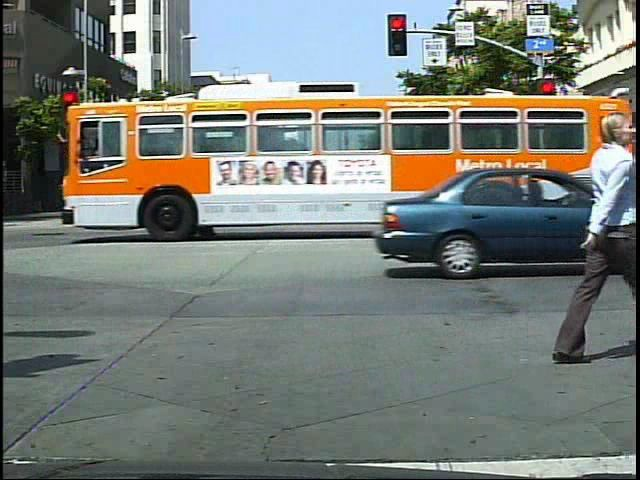person: (297, 165, 329, 229), (328, 166, 358, 230), (200, 167, 229, 233), (548, 160, 571, 211)
